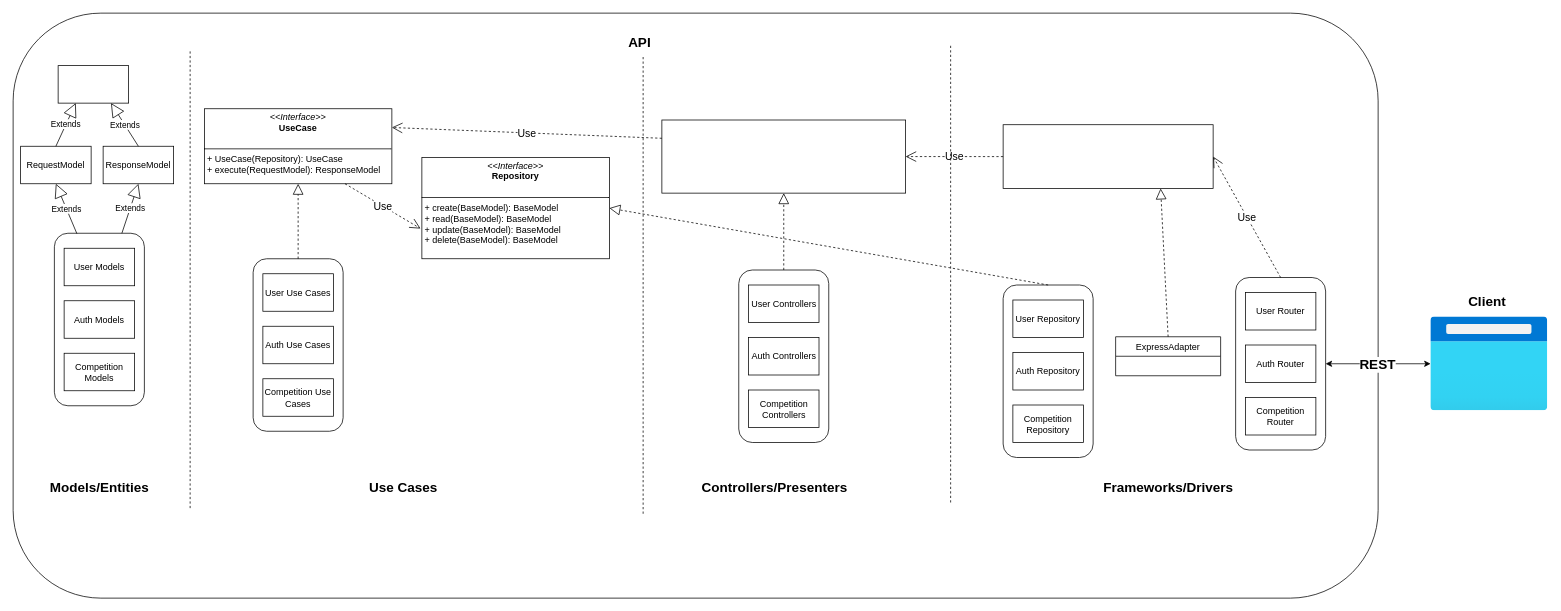
Image size: 1561x611. Some labels were removed from this diagram. Each missing label, with the centre of its shape:
<<Interface>> Controller + execute(RequestModel, Repository): ResponseModel: the point at 783,156
<<Interface>> FrameworkAdapter + execute(useCaseId, requestData): responseData: the point at 1107,156
BaseModel: the point at 93,84
